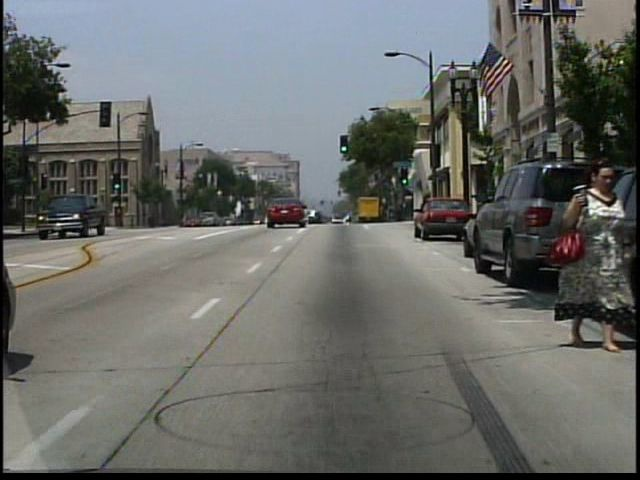person: (560, 159, 636, 350)
